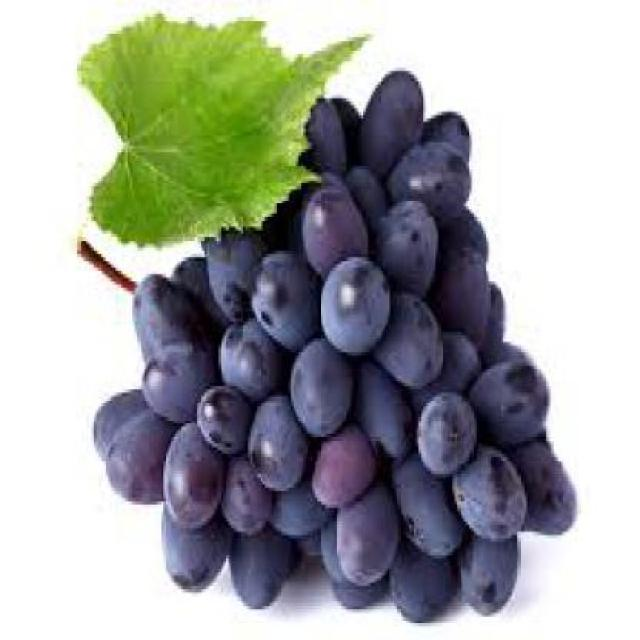BIODEGRADABLE: (92, 71, 573, 617), (69, 17, 371, 231), (354, 68, 421, 180), (390, 447, 462, 551), (466, 365, 546, 450), (452, 509, 517, 613), (378, 284, 440, 393), (161, 403, 217, 522), (354, 349, 414, 460), (251, 248, 315, 352), (106, 407, 179, 498), (293, 332, 352, 443), (226, 508, 296, 600), (452, 447, 525, 535), (199, 234, 270, 321), (158, 502, 231, 586), (130, 277, 210, 352), (390, 525, 455, 617), (301, 180, 365, 271), (388, 139, 466, 210), (246, 400, 306, 491), (216, 326, 292, 396), (412, 389, 474, 468), (515, 444, 573, 528), (339, 498, 399, 579), (139, 348, 216, 407), (312, 433, 376, 501), (438, 244, 480, 342), (85, 382, 149, 444), (217, 454, 266, 532), (274, 477, 324, 535), (301, 98, 339, 173), (435, 329, 477, 396), (317, 512, 349, 593), (441, 214, 484, 274), (479, 278, 501, 373), (422, 112, 466, 159), (340, 102, 358, 180), (337, 579, 392, 603), (298, 518, 320, 559)
